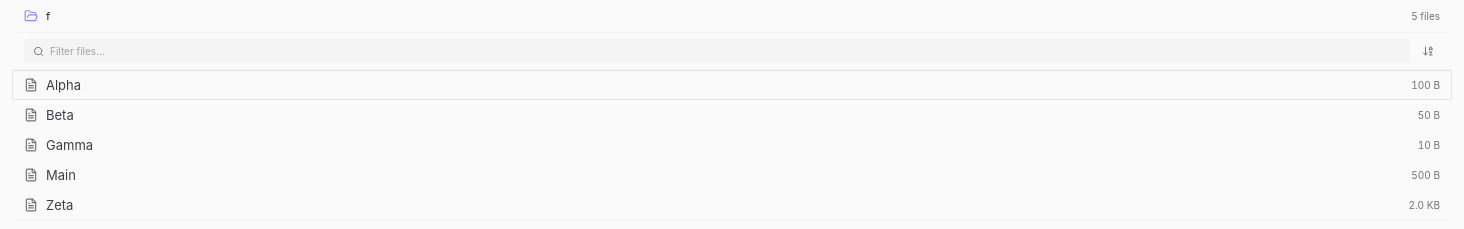
Test case: FileList › shows an empty state when the filter matches nothing
In the field with placeholder "Filter files…": (726, 51) x1=50 y1=44 x2=1401 y2=58, type "zzz"
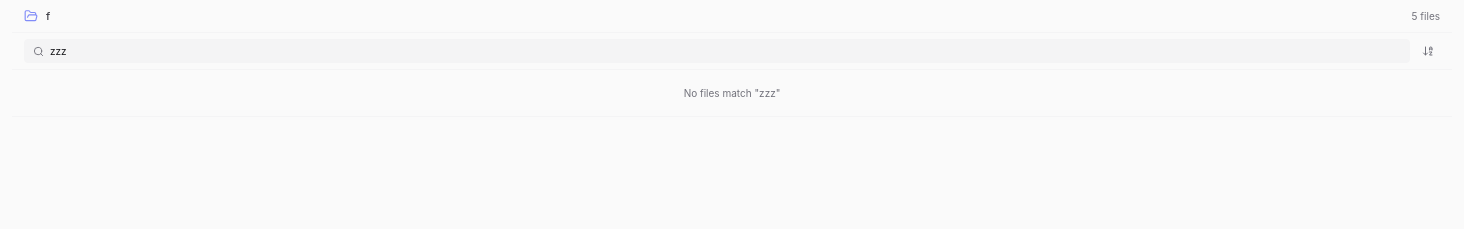
Expected: the text "No files match \"zzz\"" is shown, x1=684 y1=87 x2=780 y2=99
